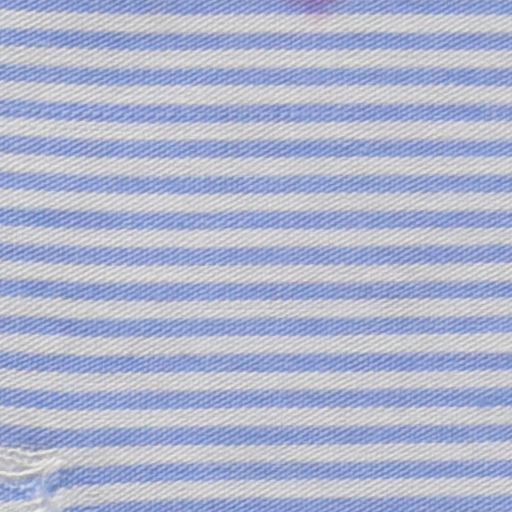defect: (1, 441, 75, 511)
